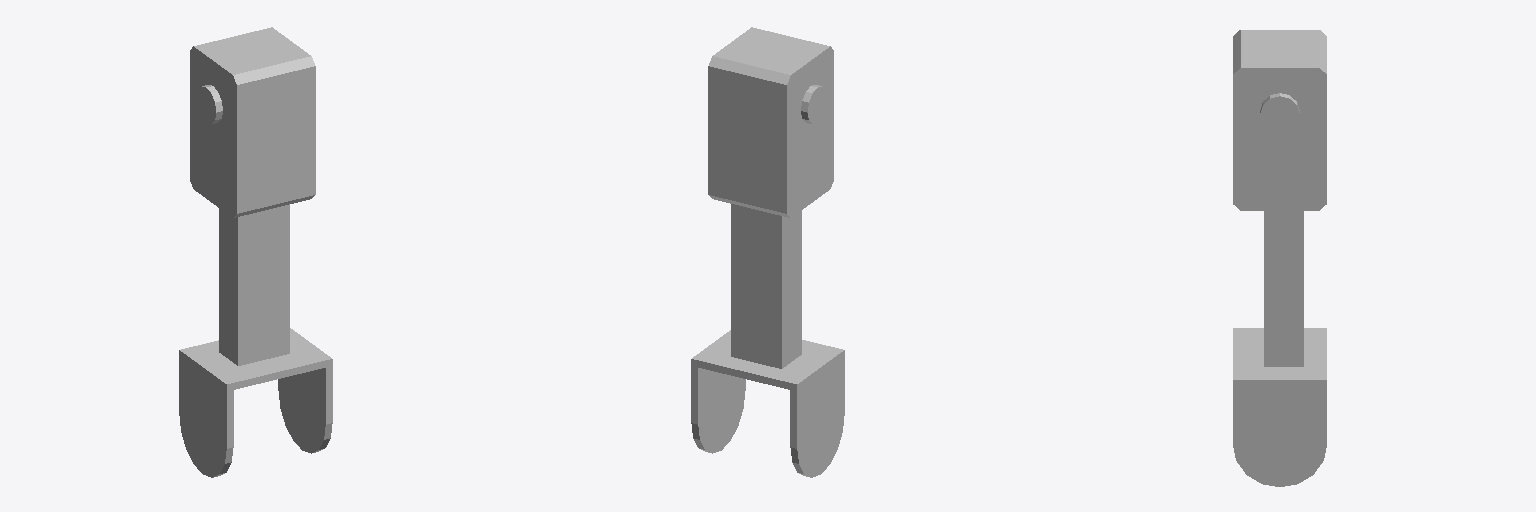
File: leftLeg3.obj
3 renders of one model, left to right at view 1: azimuth 30°, elevation 25°; view 2: azimuth 150°, elevation 25°; view 3: azimuth 270°, elevation 25°, orthographic.
Parts seen in each view (by area): view 1: unnamed_object1; view 2: unnamed_object1; view 3: unnamed_object1.
Part boxes in pixels (x1,y1,x2,y2): unnamed_object1: (179,27,332,477); unnamed_object1: (691,27,844,477); unnamed_object1: (1233,30,1326,486).
Bounding box in the file's own units: 7.75 × 28.75 × 6.